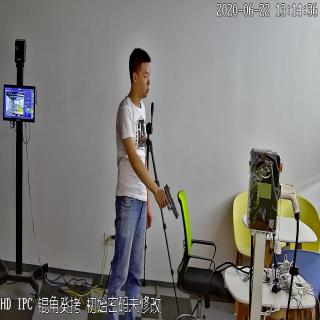gun: (156, 179, 180, 222)
